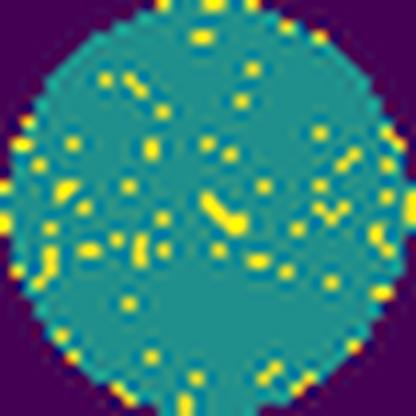Center: (198, 187, 256, 239)
